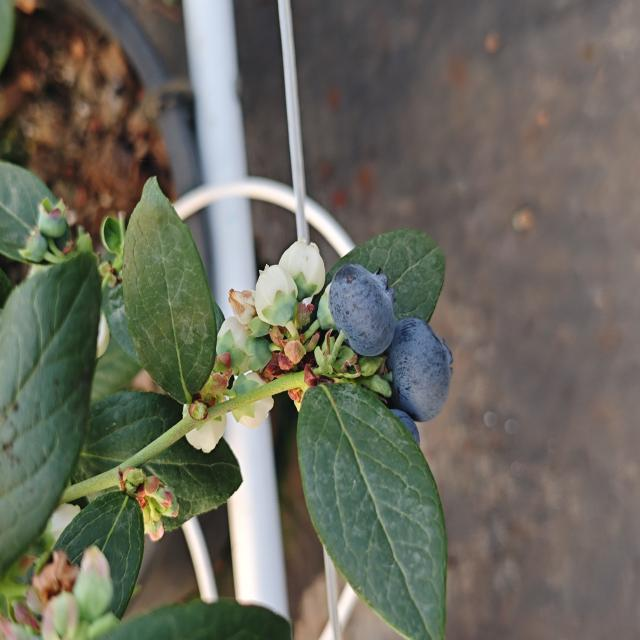ripe: (385, 315, 455, 425), (325, 261, 398, 360), (371, 404, 424, 482)
